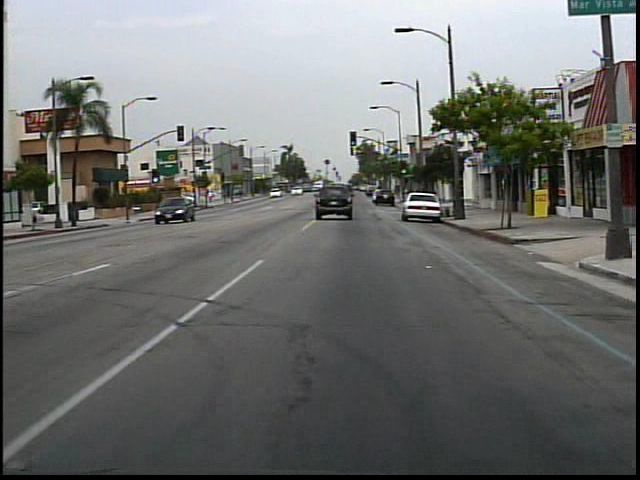person: (207, 187, 215, 207)
